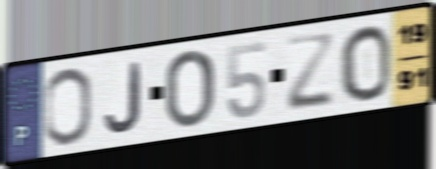5: (225, 38, 267, 120)
J: (102, 59, 144, 135)
O: (337, 22, 393, 103), (164, 47, 217, 131), (42, 64, 94, 147)
Z: (284, 31, 337, 115)
